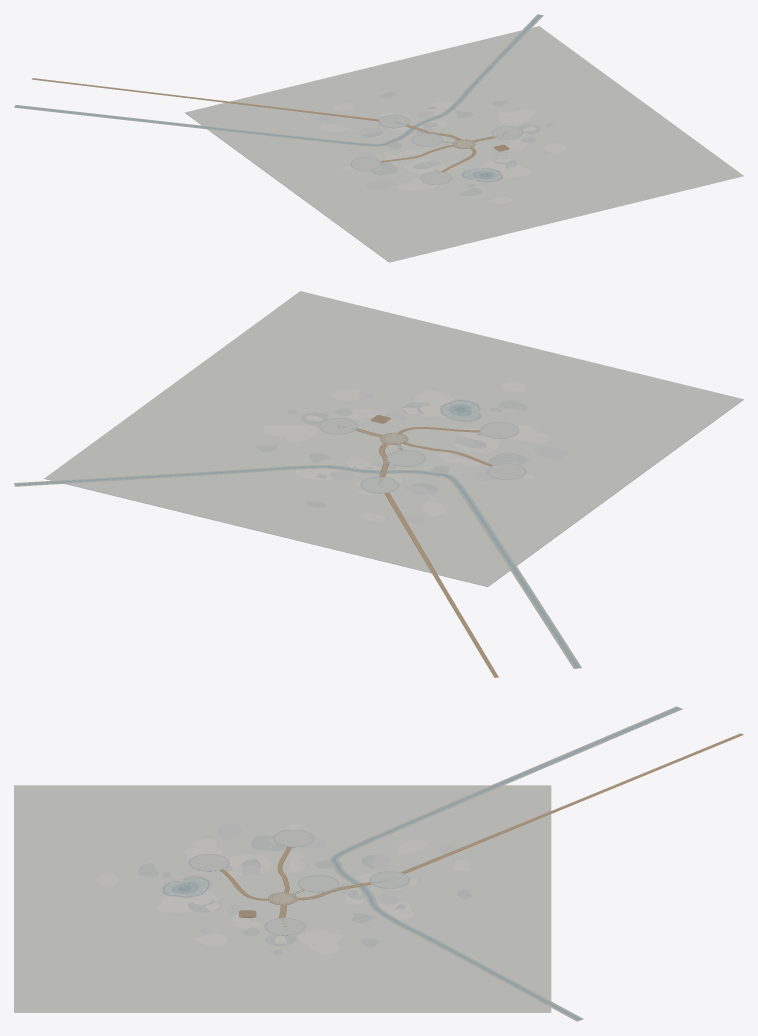
The model's file is winter-ground.glb.
The picture shows the model from 3 angles, top to bottom: view 1: azimuth 30°, elevation 25°; view 2: azimuth 150°, elevation 25°; view 3: azimuth 270°, elevation 25°; orthographic projection. The views are drawn at different scales.
Parts seen in each view (by area): view 1: ground; view 2: ground; view 3: ground.
Boxes of the visible parts, x1=… form: ground: x1=14, y1=14, x2=743, y2=262; ground: x1=14, y1=291, x2=743, y2=677; ground: x1=14, y1=706, x2=743, y2=1021.
Size of the model in its own units: 250 by 0.214 by 244.
